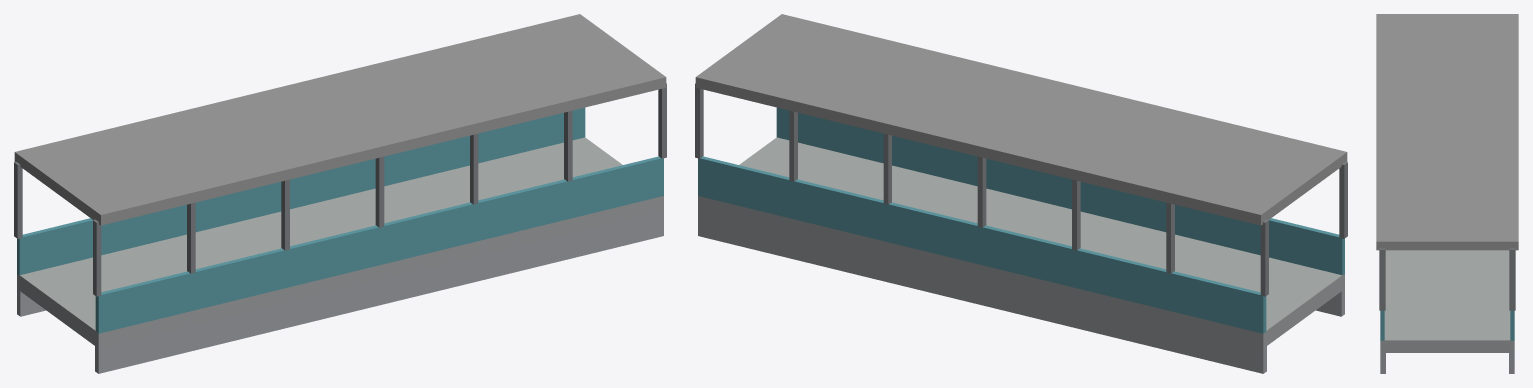
Rendered from hosp-bridge-14.mega-v2.lod0.glb.
3 views of the same model, side by side, from view 1: azimuth 30°, elevation 25°; view 2: azimuth 150°, elevation 25°; view 3: azimuth 270°, elevation 25° (orthographic). The views are drawn at different scales.
Parts seen in each view (by area): view 1: hosp-bridge-14; view 2: hosp-bridge-14; view 3: hosp-bridge-14.
Part boxes in pixels (x1=…): hosp-bridge-14: x1=14, y1=14, x2=666, y2=373; hosp-bridge-14: x1=695, y1=14, x2=1347, y2=373; hosp-bridge-14: x1=1376, y1=14, x2=1518, y2=373.
Size of the model in its own units: 14.12 by 3.8 by 3.7.
